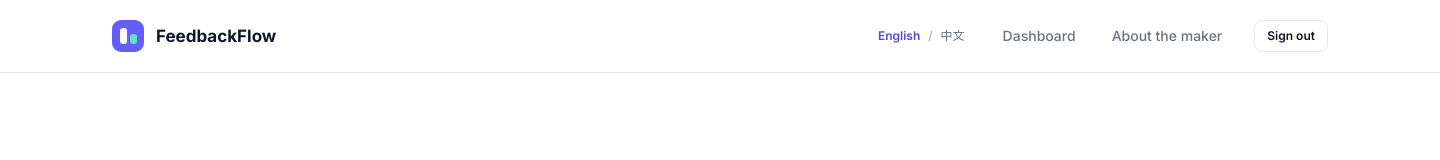
Test: HomeHeader account navigation › keeps the user on the public home page and shows a safe error if sign out rejects
This screenshot has width=1440, height=160.
Click the button "Sign out" at {"x": 1291, "y": 36}, box [1254, 20, 1328, 52]
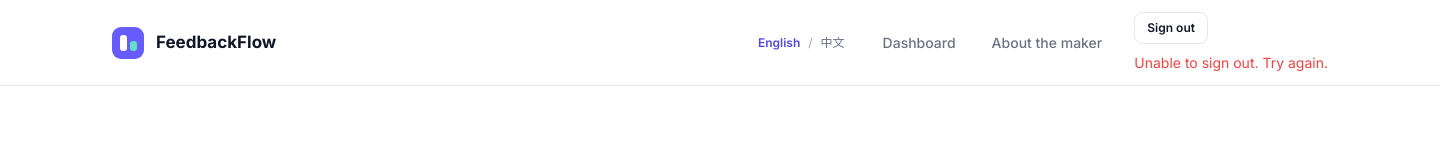
Expected: the button "Sign out" is enabled, [1134, 12, 1208, 44]
Expected: the message reads "Unable to sign out. Try again.", [1134, 54, 1328, 71]
